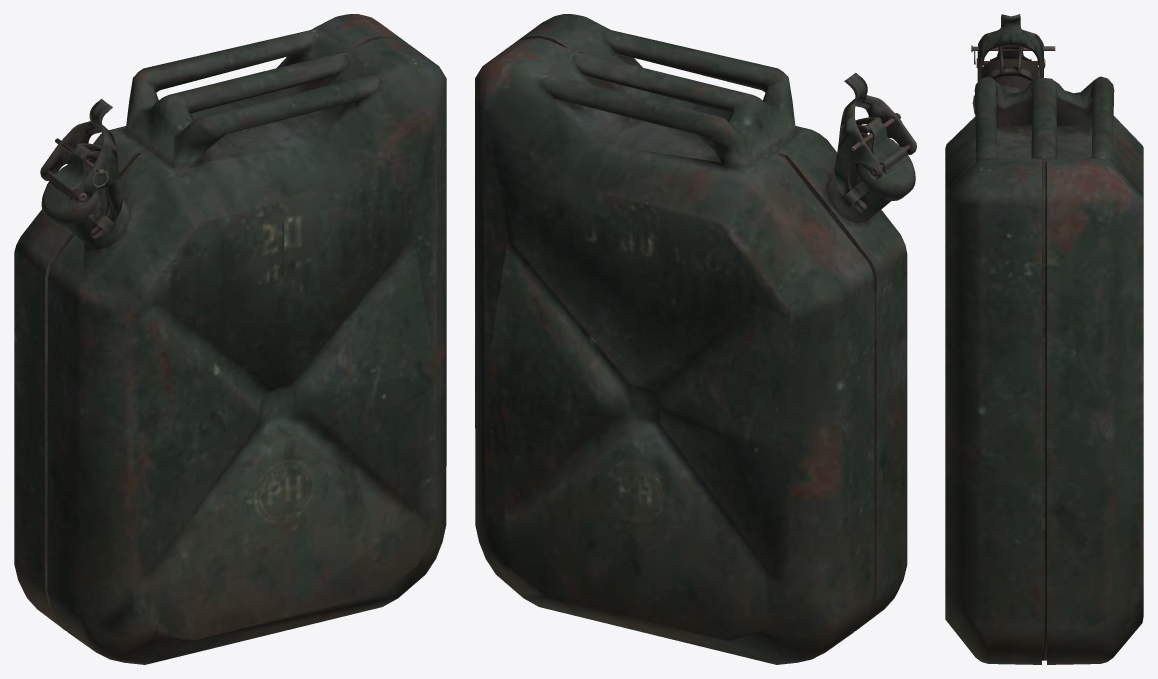
File: metal_jerrycan_green.glb
3 renders of one model, left to right at view 1: azimuth 30°, elevation 25°; view 2: azimuth 150°, elevation 25°; view 3: azimuth 270°, elevation 25°, orthographic. The views are drawn at different scales.
Parts seen in each view (by area): view 1: metal_jerrycan_green_body, metal_jerrycan_green_latch, metal_jerrycan_green_cap; view 2: metal_jerrycan_green_body, metal_jerrycan_green_latch, metal_jerrycan_green_cap; view 3: metal_jerrycan_green_body, metal_jerrycan_green_latch, metal_jerrycan_green_cap, metal_jerrycan_green_fastener.
Part boxes in pixels (<box>): metal_jerrycan_green_body: <box>14,14,446,664</box>; metal_jerrycan_green_latch: <box>40,99,122,238</box>; metal_jerrycan_green_cap: <box>41,144,101,227</box>; metal_jerrycan_green_body: <box>475,14,907,664</box>; metal_jerrycan_green_latch: <box>834,73,916,212</box>; metal_jerrycan_green_cap: <box>855,118,915,200</box>; metal_jerrycan_green_body: <box>945,75,1143,664</box>; metal_jerrycan_green_latch: <box>976,14,1045,81</box>; metal_jerrycan_green_cap: <box>980,45,1040,79</box>; metal_jerrycan_green_fastener: <box>989,46,1032,81</box>.
Size of the model in its own units: 0.3604 by 0.4998 by 0.1709.
Materials: 1 (1 with a texture image).
